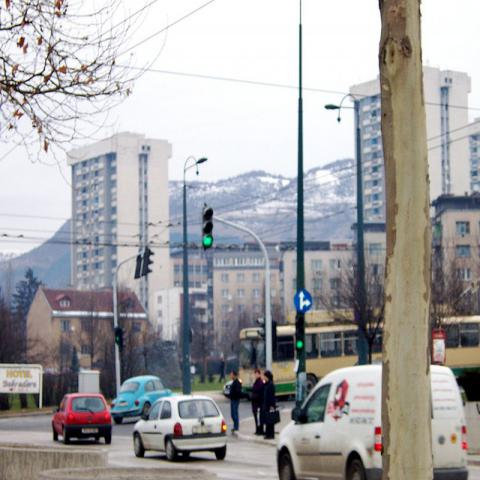bus: (234, 326, 358, 398), (443, 317, 479, 368)
car: (132, 392, 227, 464), (50, 391, 113, 445), (110, 375, 173, 423), (223, 379, 234, 394)
truck: (273, 363, 469, 474)
